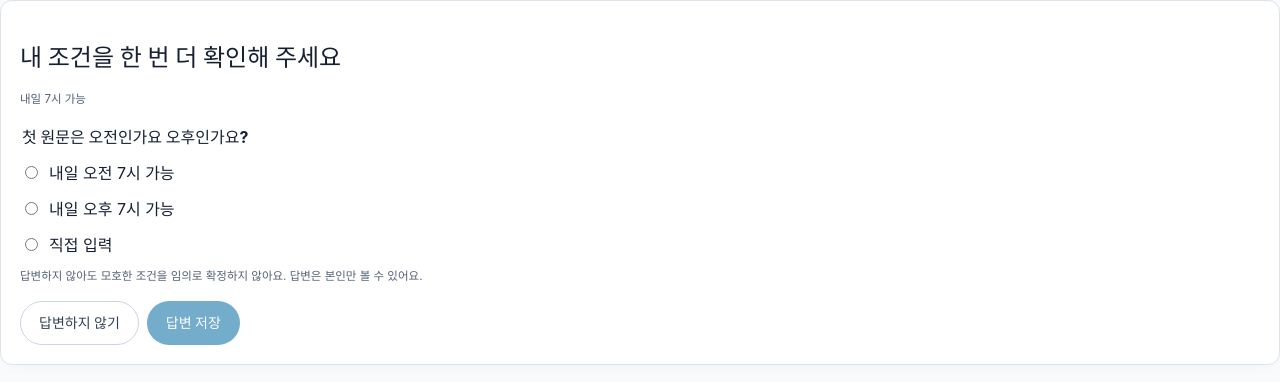
#107 explicit answer intent belongs to its question identity › does not let a previous CANCELLED success notice hide Q2
The image size is (1280, 382).
Click the button "답변하지 않기": click(79, 322) [20,300,139,344]
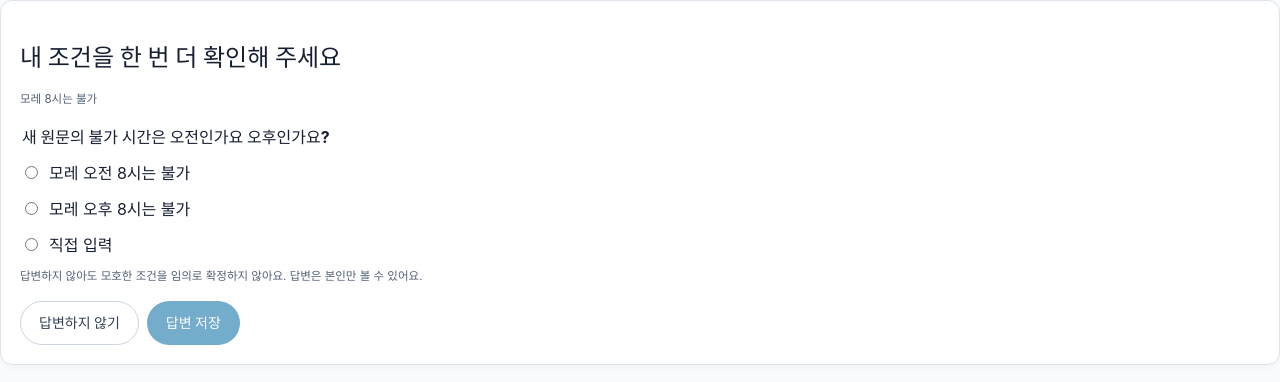
Expected: the text "새 원문의 불가 시간은 오전인가요 오후인가요?" is shown, [20,125,332,149]
Click the radio button labelled "모레 오후 8시는 불가": click(32, 208) [25,202,38,215]
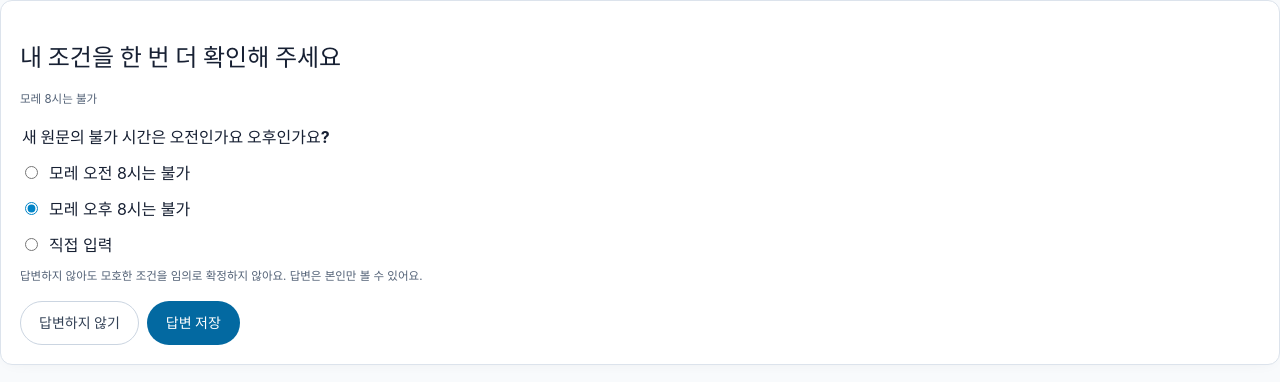
Expected: the button "답변 저장" is enabled, [147,300,240,344]
